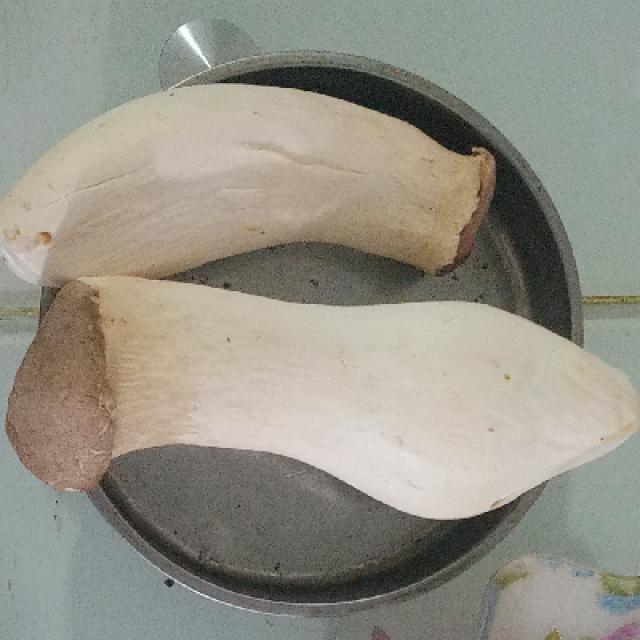Pleurotus eryngii: (3, 277, 640, 520), (0, 87, 492, 283)
